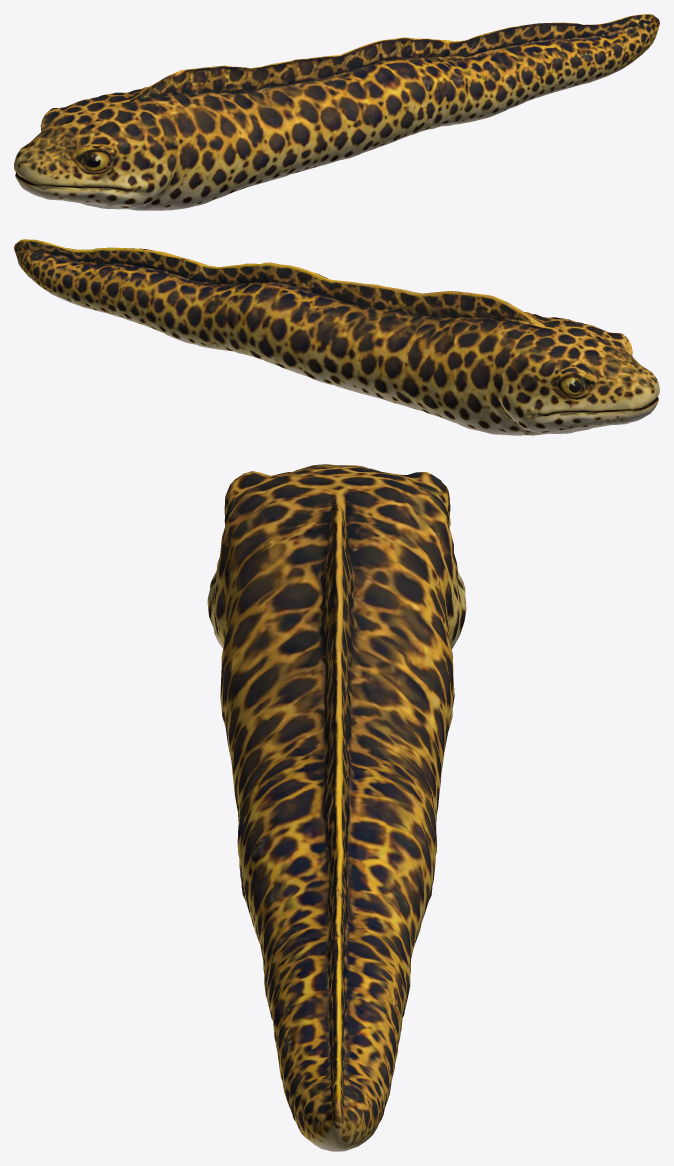
File: fish-murena.glb
3 views of the same model, one above another, from view 1: azimuth 30°, elevation 25°; view 2: azimuth 150°, elevation 25°; view 3: azimuth 270°, elevation 25° (orthographic). The views are drawn at different scales.
Parts seen in each view (by area): view 1: tripo_node_58a43105-6d3c-4298-a6e2-a535f660903c; view 2: tripo_node_58a43105-6d3c-4298-a6e2-a535f660903c; view 3: tripo_node_58a43105-6d3c-4298-a6e2-a535f660903c.
Part boxes in pixels (x1,y1,x2,y2): tripo_node_58a43105-6d3c-4298-a6e2-a535f660903c: [14, 14, 659, 210]; tripo_node_58a43105-6d3c-4298-a6e2-a535f660903c: [14, 239, 659, 435]; tripo_node_58a43105-6d3c-4298-a6e2-a535f660903c: [207, 464, 466, 1151].
Size of the model in its own units: 1 by 0.1903 by 0.1752.
Materials: 1 (1 with a texture image).
